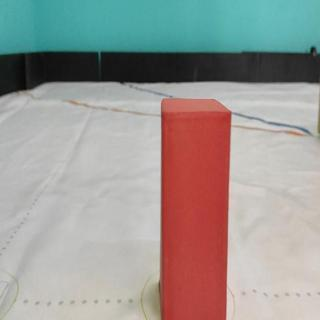redbox: (161, 99, 227, 320)
